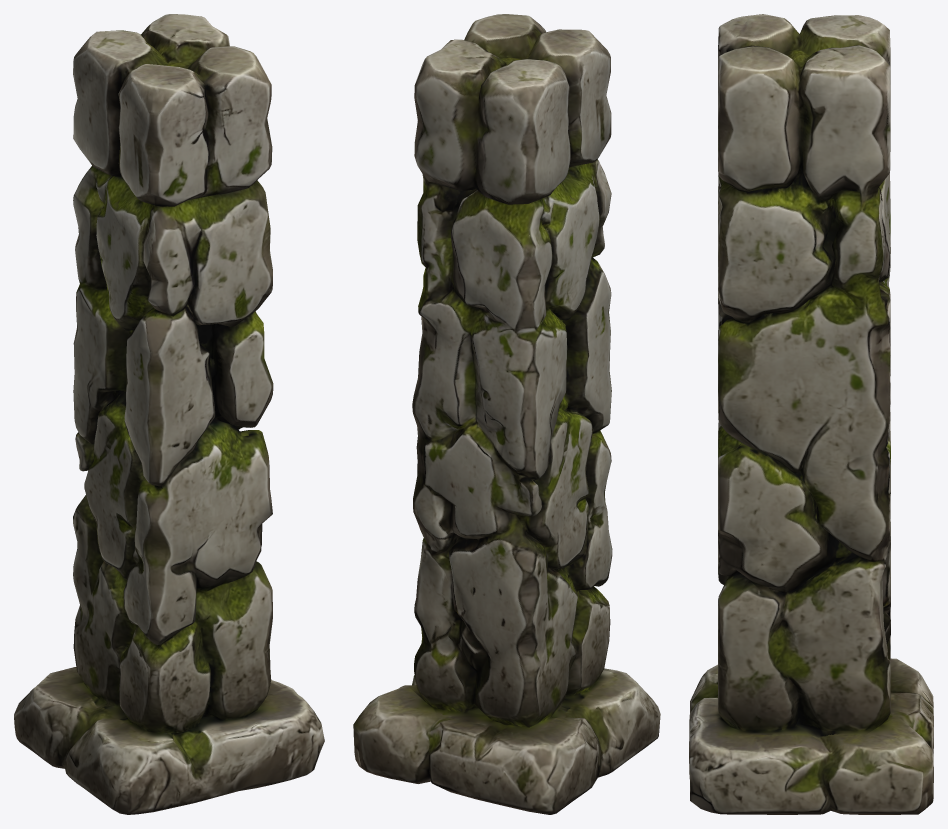
File: DolmenTower (2).fbx
3 views of the same model, side by side, from view 1: azimuth 30°, elevation 25°; view 2: azimuth 150°, elevation 25°; view 3: azimuth 270°, elevation 25° (orthographic). The views are drawn at different scales.
Visible parts, largest first — view 1: mesh_node; view 2: mesh_node; view 3: mesh_node.
Boxes of the visible parts, x1,y1,x2,y2 form: mesh_node: [14, 14, 324, 814]; mesh_node: [353, 14, 660, 814]; mesh_node: [689, 14, 933, 814].
Size of the model in its own units: 0.6048 by 1.98 by 0.6057.
